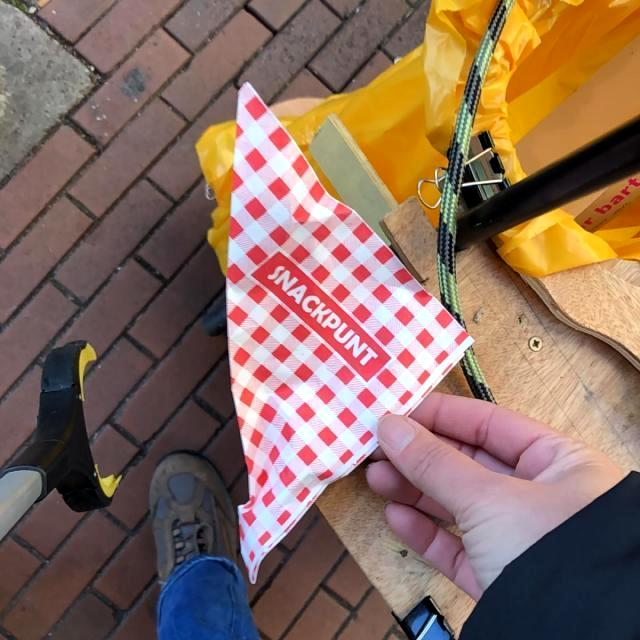Paper: (224, 77, 474, 589)
